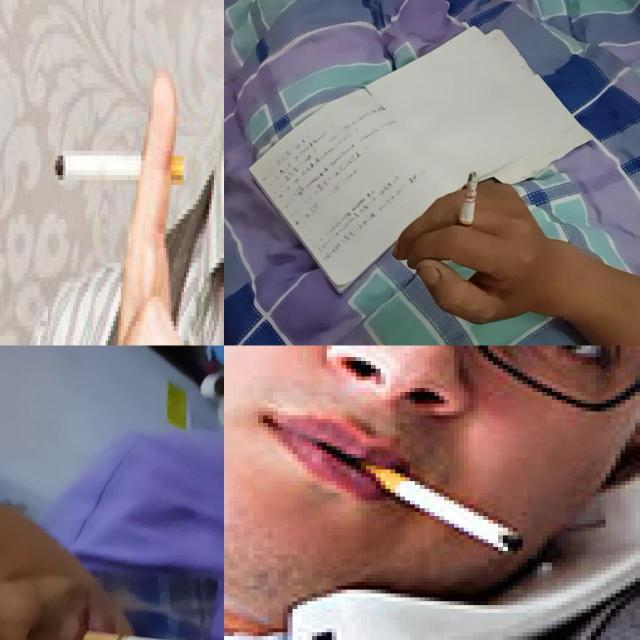smoking: (360, 462, 522, 556), (50, 146, 184, 180), (454, 171, 482, 241)
